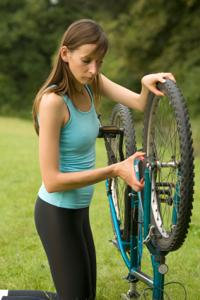person: (1, 16, 177, 300)
